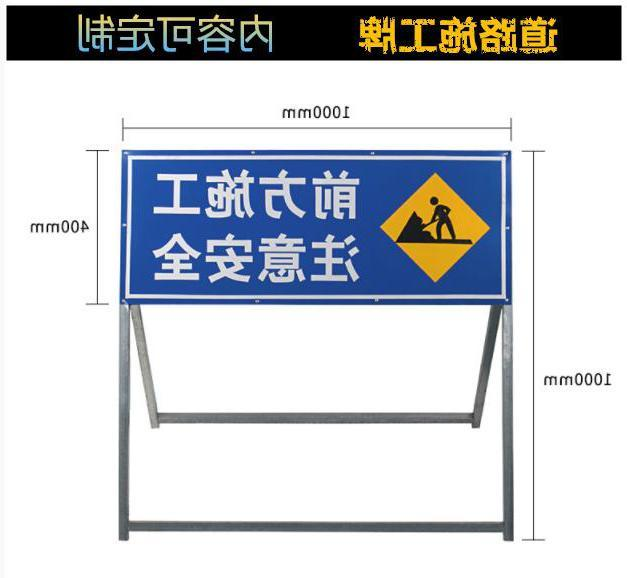sign: (120, 147, 512, 310)
